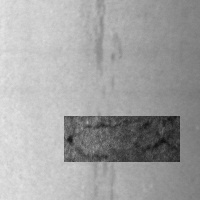crazing: (64, 116, 180, 162)
inclusion: (84, 101, 119, 199), (89, 1, 121, 87)
